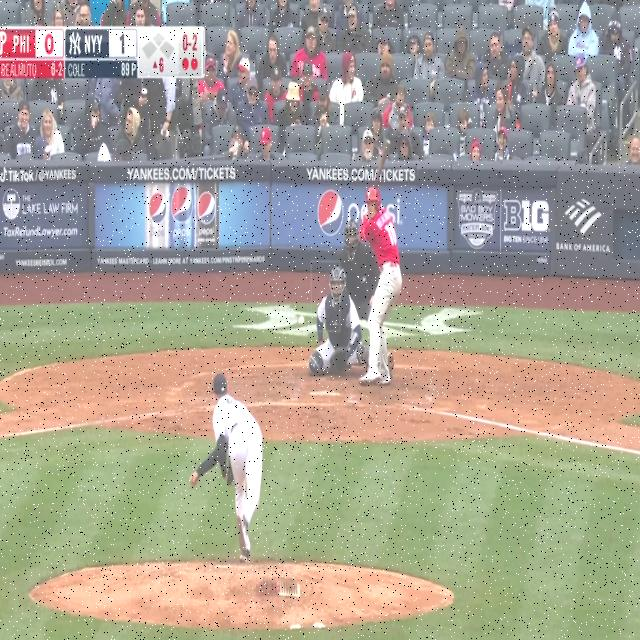baseball: (299, 316, 304, 325)
